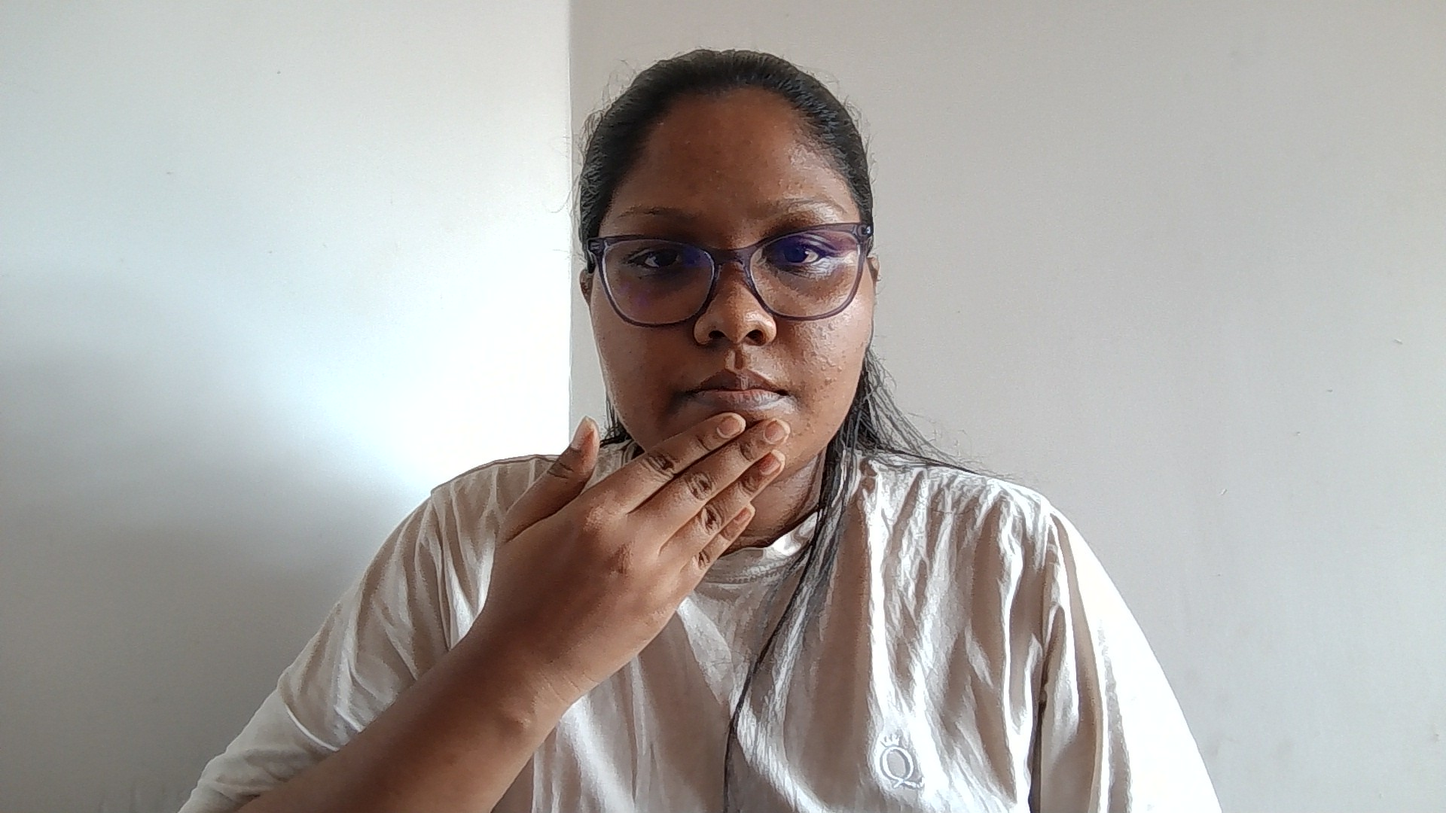Thank You: (473, 366, 1030, 770)
